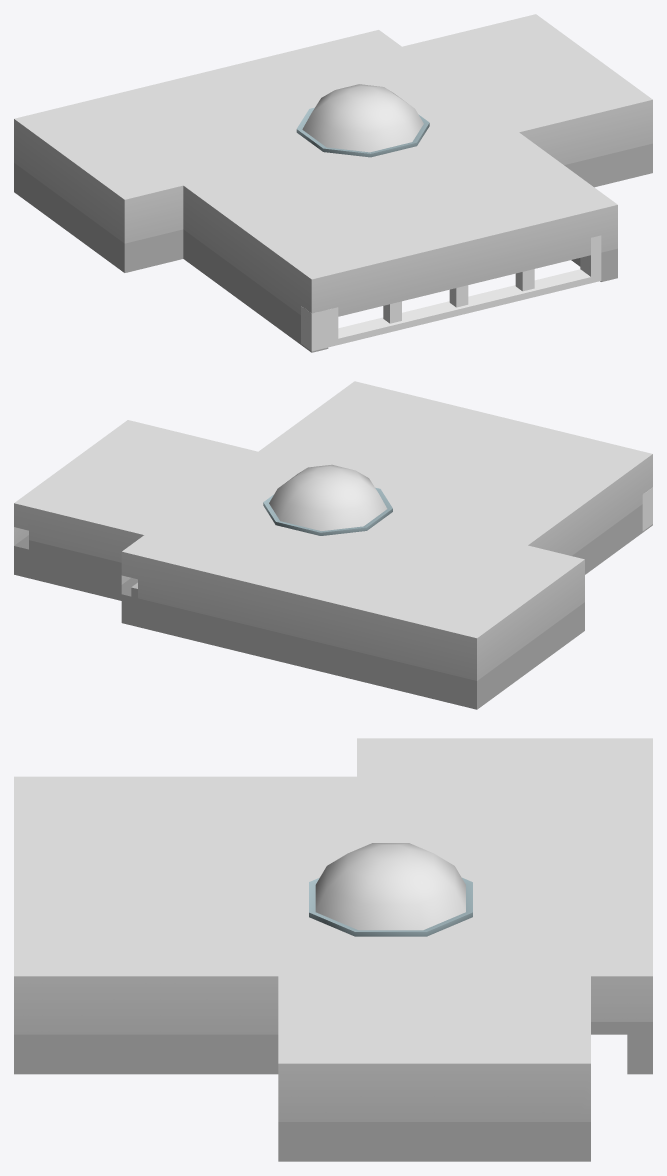
The model's file is level.fbx.
3 renders of one model, top to bottom at view 1: azimuth 30°, elevation 25°; view 2: azimuth 150°, elevation 25°; view 3: azimuth 270°, elevation 25°, orthographic. The views are drawn at different scales.
Visible parts, largest first — view 1: Cube, Wall_1.002; view 2: Cube; view 3: Cube.
Part boxes in pixels (x1,y1,x2,y2): Cube: (14, 14, 652, 352); Wall_1.002: (301, 235, 601, 351); Cube: (14, 381, 652, 709); Cube: (14, 738, 652, 1161).
Size of what is drawn, in the model's own units: 124 by 26.16 by 103.
